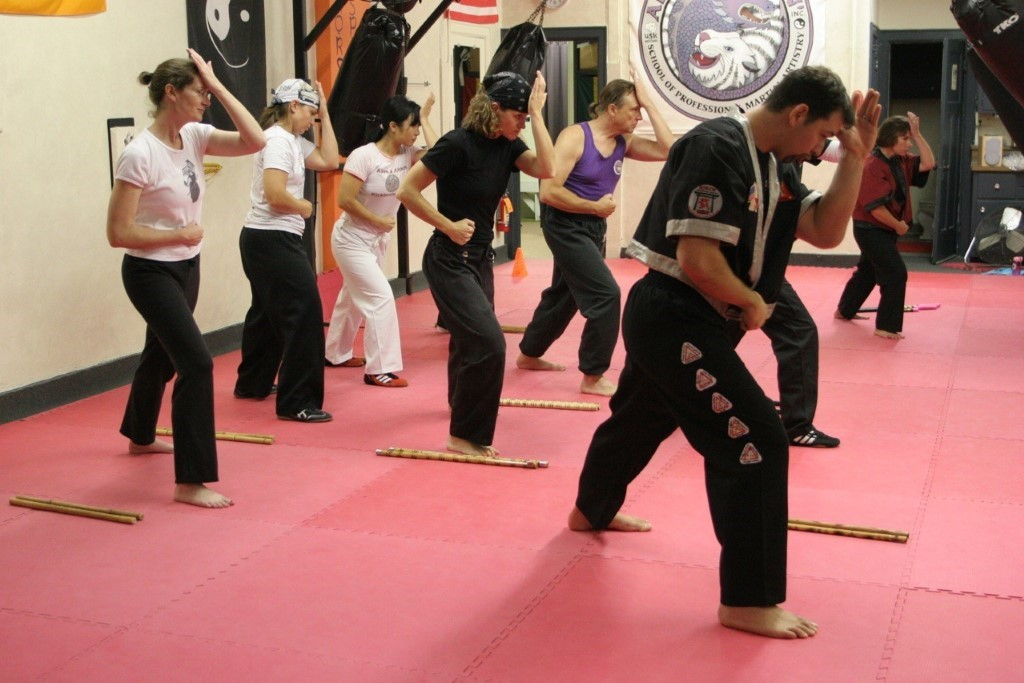baston_e: (12, 497, 131, 524), (18, 495, 137, 519), (381, 449, 527, 468), (788, 522, 903, 542), (788, 516, 905, 535), (155, 428, 267, 444), (500, 397, 594, 410)
baston_v: (590, 401, 603, 412), (540, 458, 552, 469), (136, 510, 146, 521), (373, 446, 382, 455), (129, 515, 137, 525), (7, 495, 15, 504), (530, 460, 539, 468), (900, 535, 909, 543), (265, 437, 274, 444), (902, 530, 912, 536), (267, 433, 274, 439), (14, 494, 22, 499)
